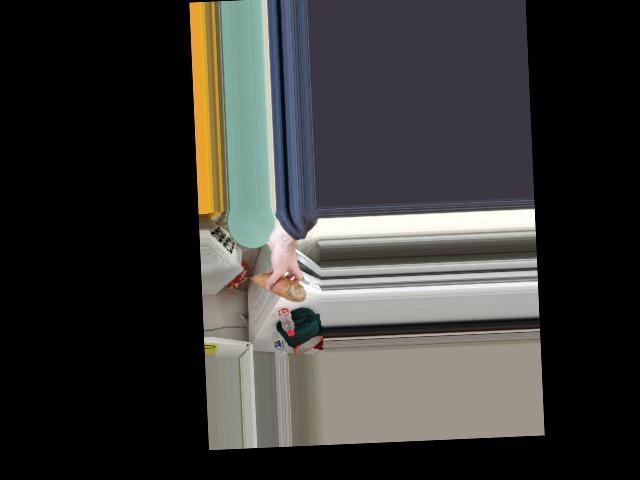sweet_potato: (253, 266, 303, 306)
